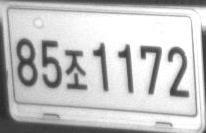1: (89, 42, 113, 91), (115, 44, 137, 93)
2: (167, 45, 189, 97)
5: (40, 40, 63, 88)
7: (140, 45, 162, 94)
8: (15, 37, 38, 86)
조: (64, 49, 88, 89)
